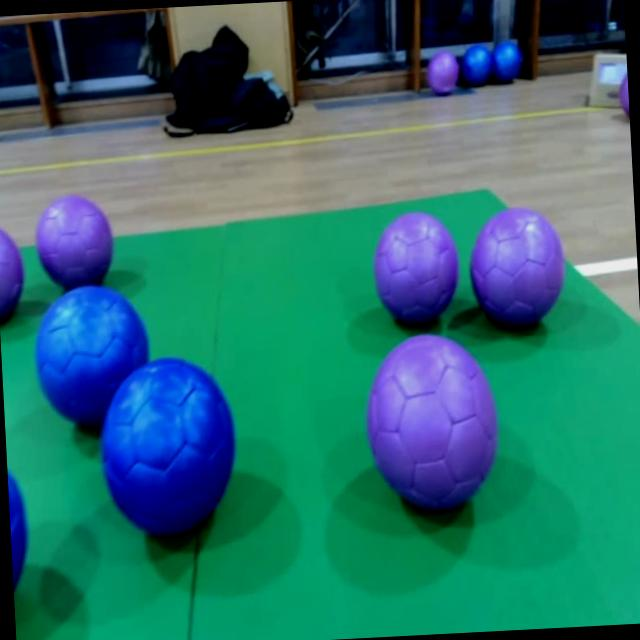blue_ball: (99, 358, 241, 546), (35, 286, 156, 436), (492, 40, 522, 84), (462, 46, 491, 84)
purple_ball: (361, 331, 504, 522), (469, 205, 568, 335), (372, 210, 462, 327), (34, 194, 116, 288), (0, 220, 32, 331), (427, 51, 462, 95)
